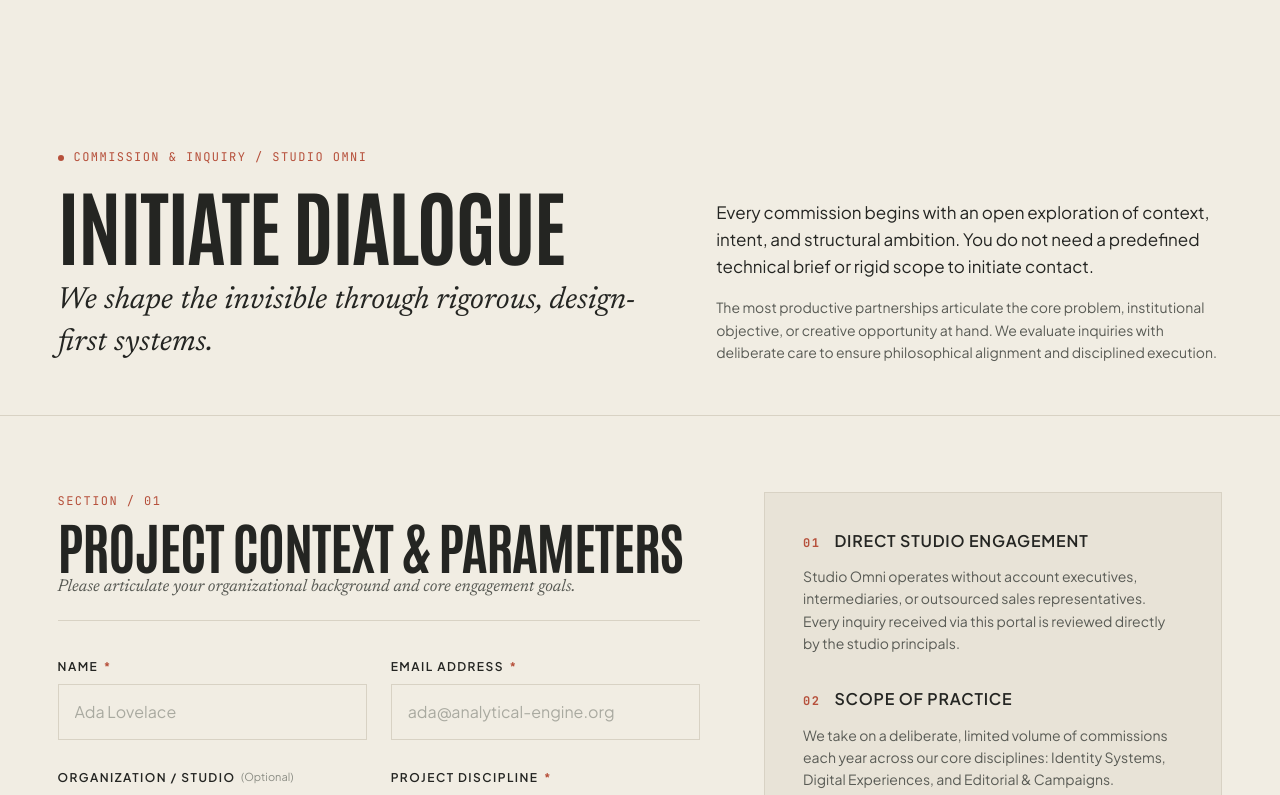
Studio Omni Contact System & Inquiry Protocol › API Submission Lifecycle › preserves form data on network failure
The image size is (1280, 795).
Type "Sonia Silva" into the field labelled "Name *".
click(212, 712); type("Sonia Silva")  # box [58,684,367,740]
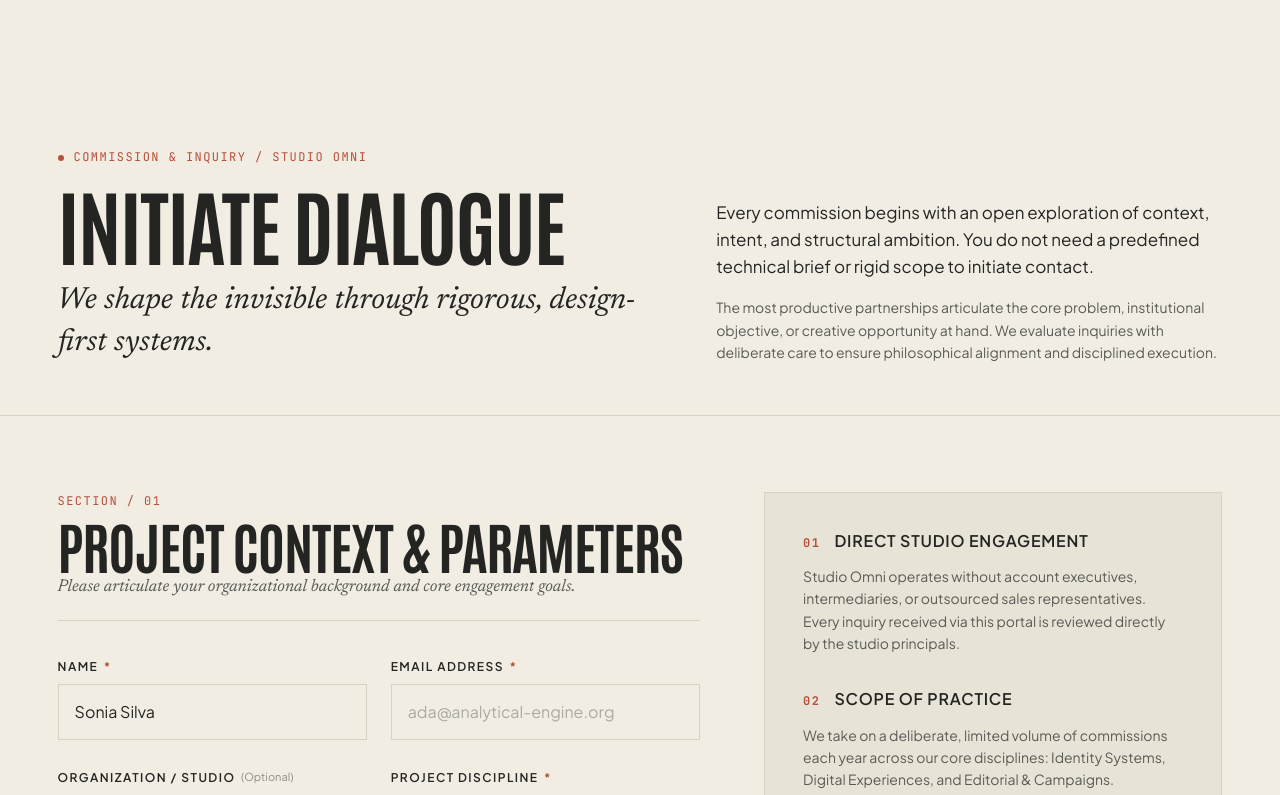
Type "sonia@silva.pt" into the field labelled "Email Address *".
click(545, 712); type("sonia@silva.pt")  # box [391,684,700,740]
(page scrolled)
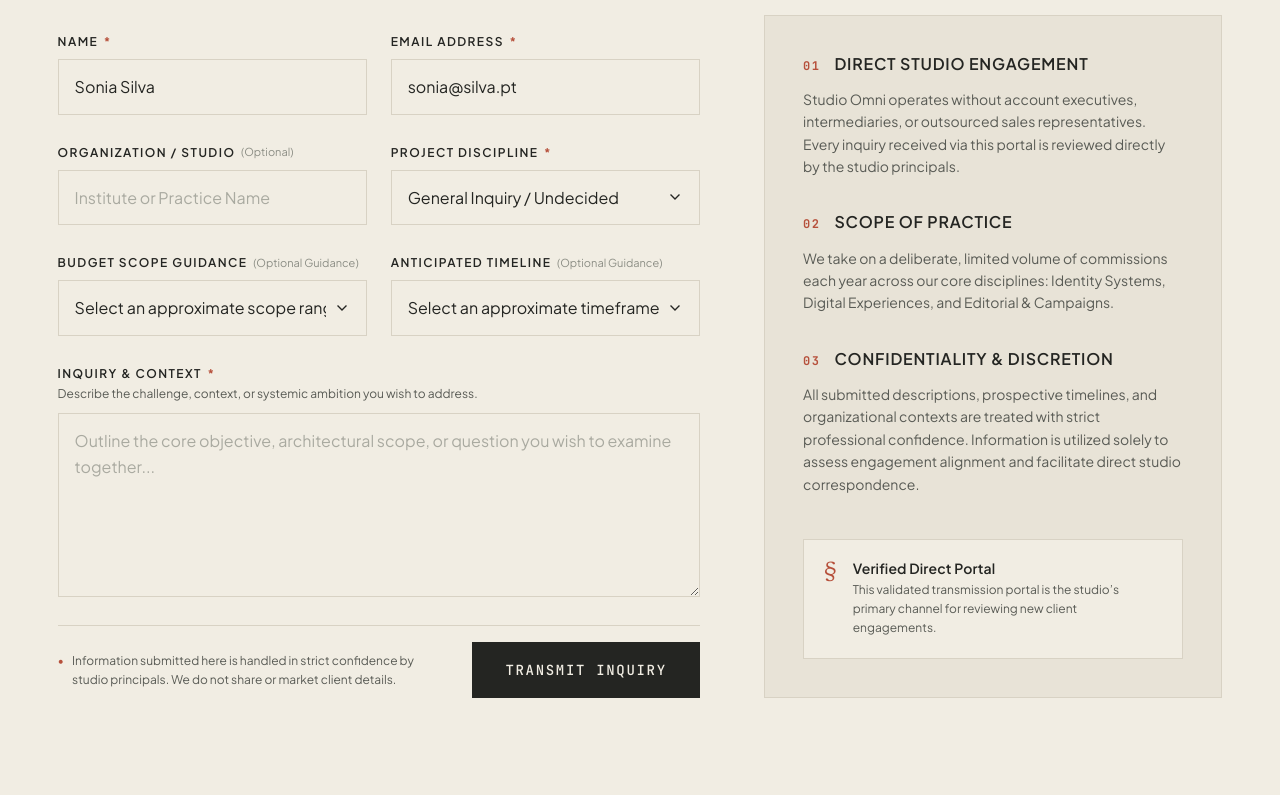
Replace the text in the text box labelled "Inquiry & Context *" with "Digital platform and editorial system for contemporary art museum." at coordinates (379, 505), box [58,413,700,597]
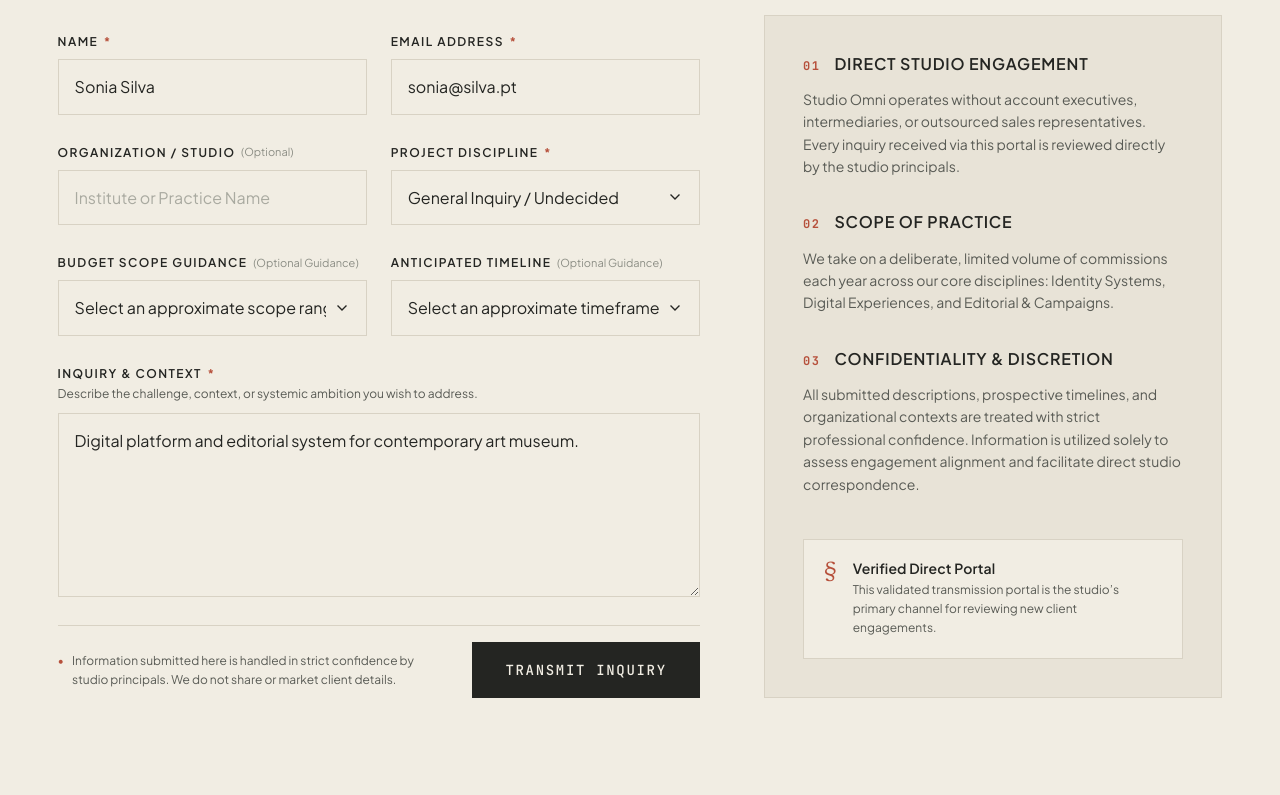
Click the button "Transmit Inquiry".
click(586, 670)  # box [472,642,700,698]
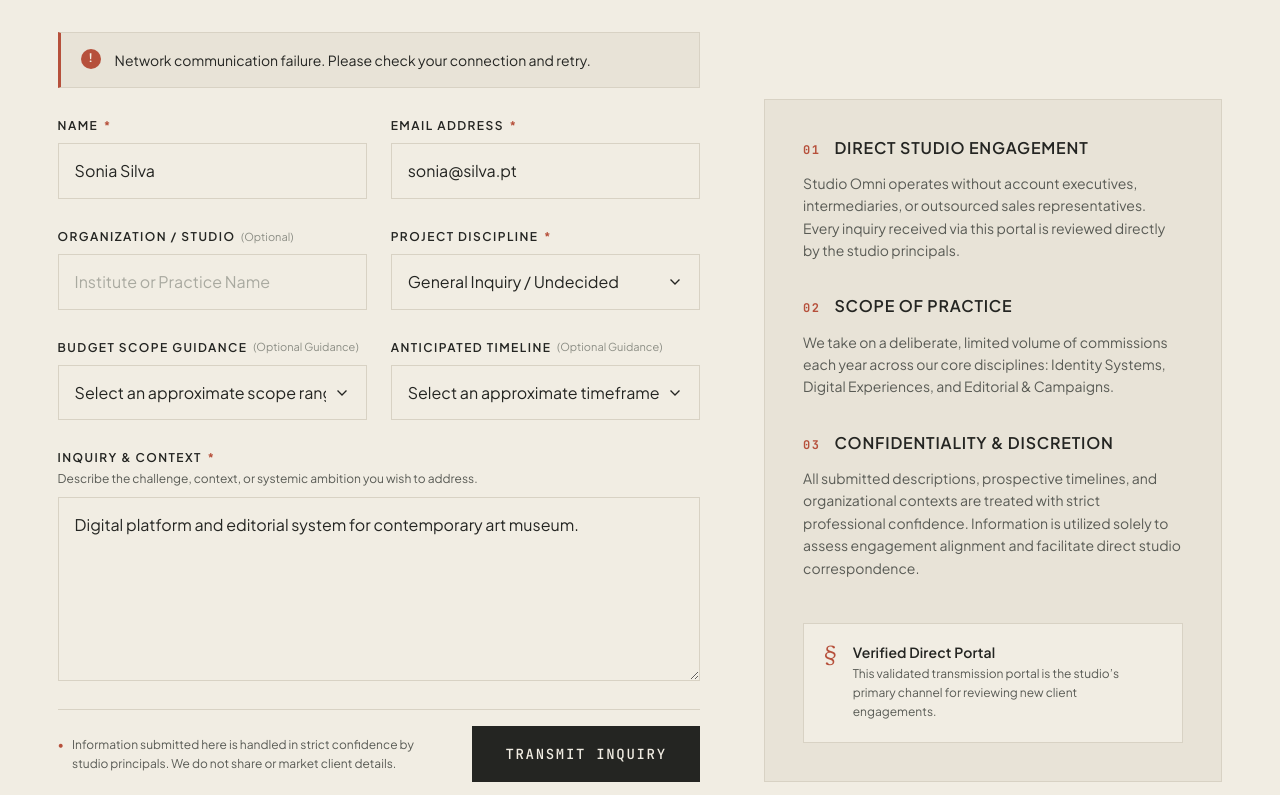
Expected: the message "! Network communication failure. Please check your connection and retry." is shown, [58,32,700,88]
Expected: the text "Network communication failure" is shown, [115,51,591,69]
